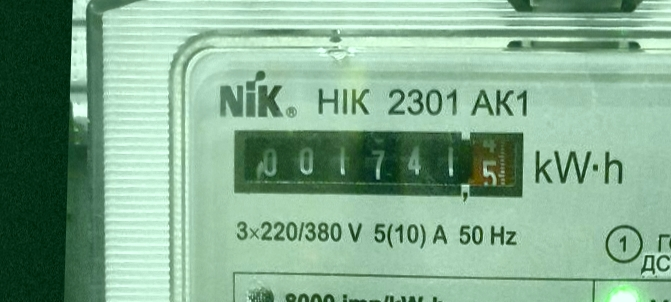0: (295, 142, 315, 177), (259, 144, 279, 178)
1: (331, 142, 349, 178), (441, 144, 457, 179)
4: (403, 142, 424, 177), (480, 136, 496, 154)
5: (478, 156, 497, 187)
7: (367, 146, 385, 181)
screen: (225, 118, 530, 207)
